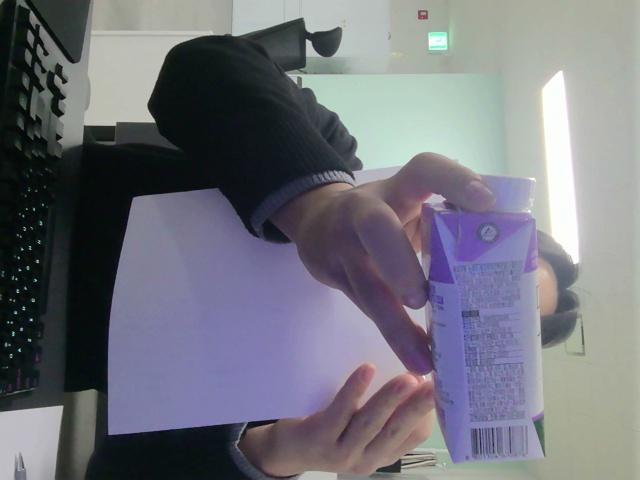milk: (422, 176, 552, 460)
